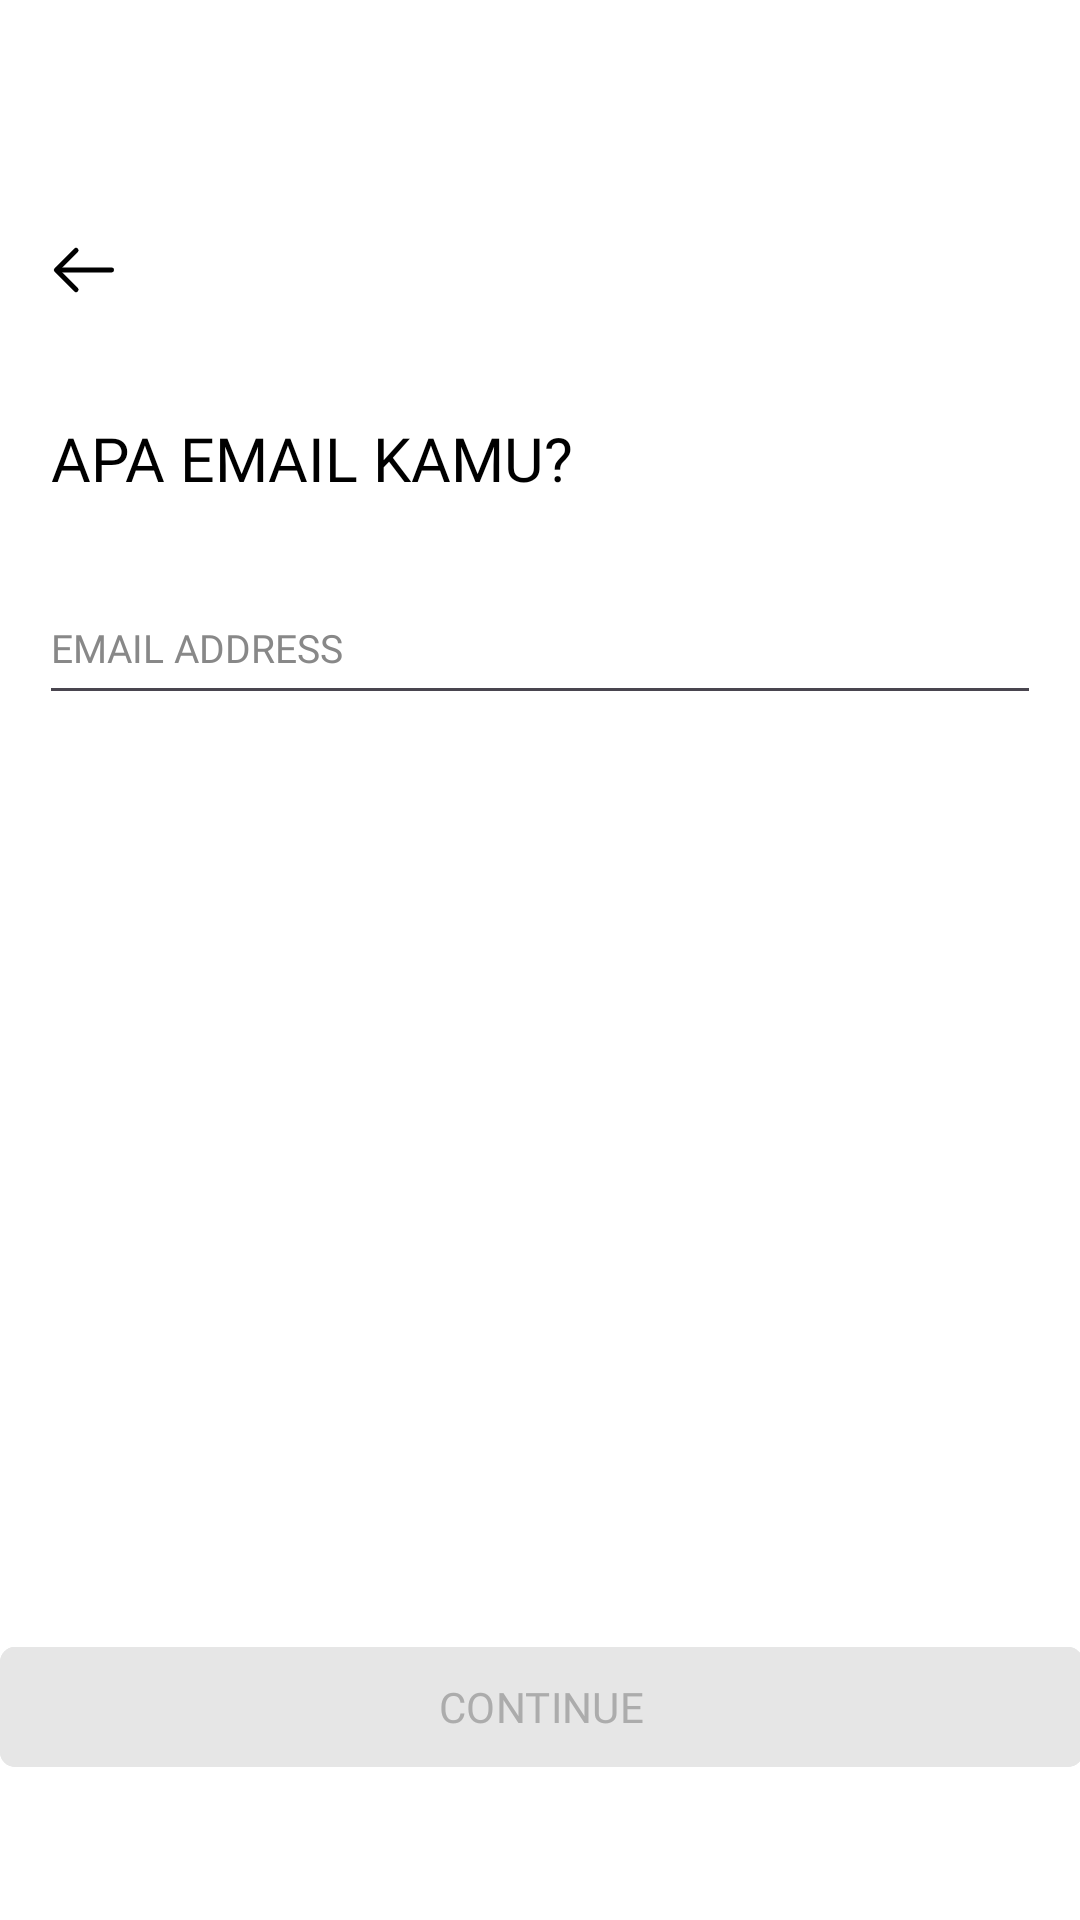

Point at icon controls on the screen. Image size 1080×1920, points as (x=x, y=y).
Back: (x=84, y=270)
